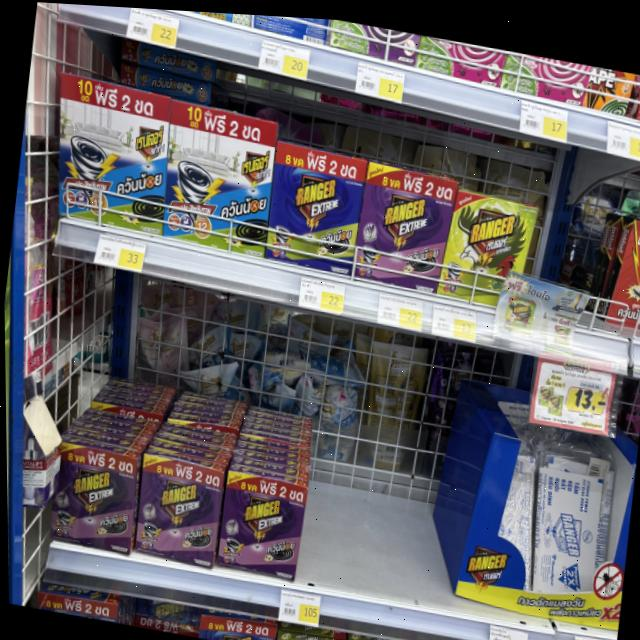empty_shelf: (67, 275, 326, 485), (298, 330, 486, 611), (518, 201, 627, 329)
